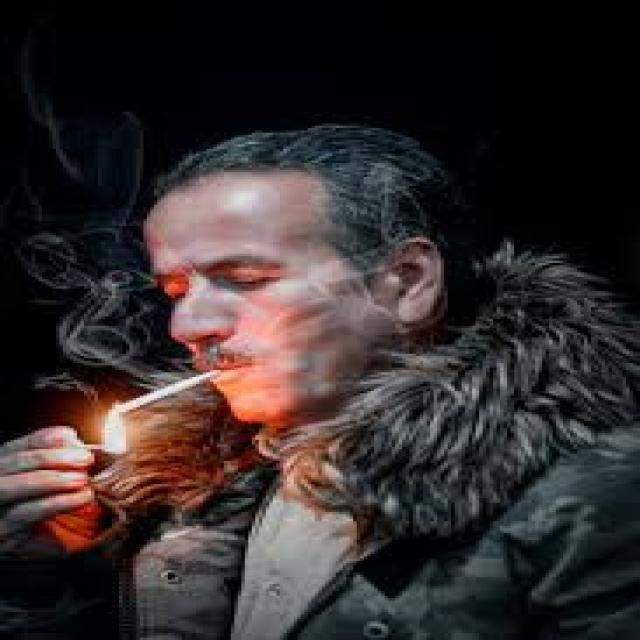fire: (102, 408, 130, 456)
